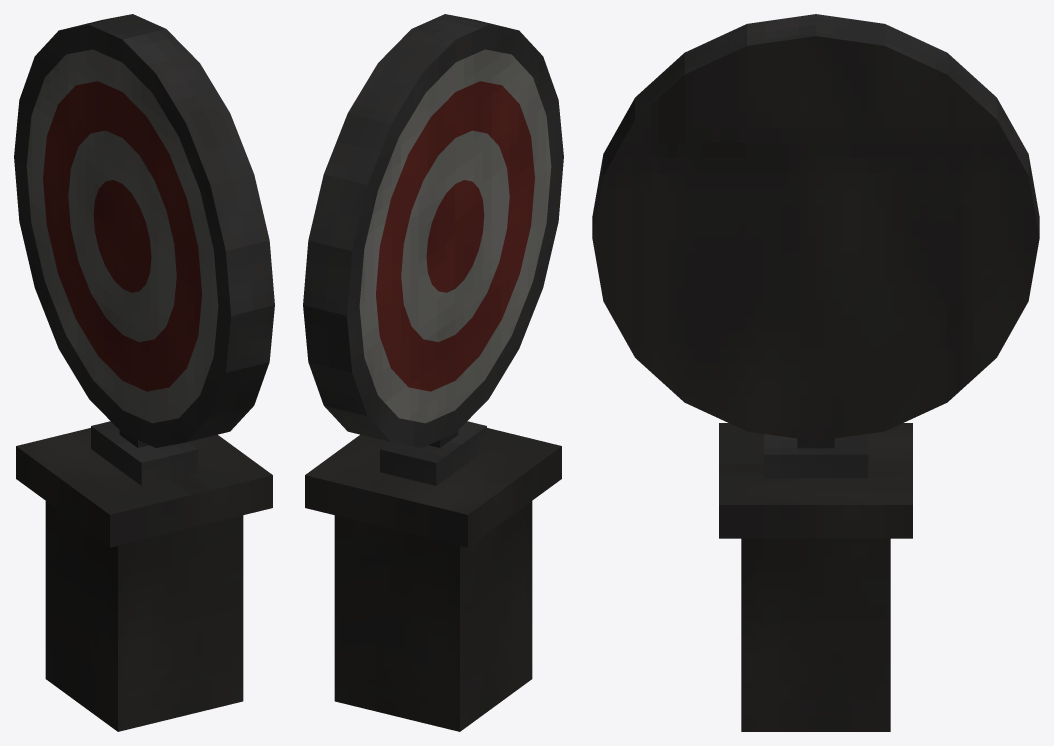
The model's file is marble_target.glb.
3 views of the same model, side by side, from view 1: azimuth 30°, elevation 25°; view 2: azimuth 150°, elevation 25°; view 3: azimuth 270°, elevation 25° (orthographic). The views are drawn at different scales.
Parts seen in each view (by area): view 1: MarbleTargetPlate, MarbleTargetPost; view 2: MarbleTargetPlate, MarbleTargetPost; view 3: MarbleTargetPlate, MarbleTargetPost.
Part boxes in pixels (<box>): MarbleTargetPlate: <box>14,14,274,485</box>; MarbleTargetPost: <box>16,428,272,731</box>; MarbleTargetPlate: <box>303,14,563,485</box>; MarbleTargetPost: <box>305,428,561,731</box>; MarbleTargetPlate: <box>592,14,1039,478</box>; MarbleTargetPost: <box>719,423,912,731</box>.
Bounding box in the file's own units: 0.52 × 2 × 1.2.
7 materials, 7 textured.
